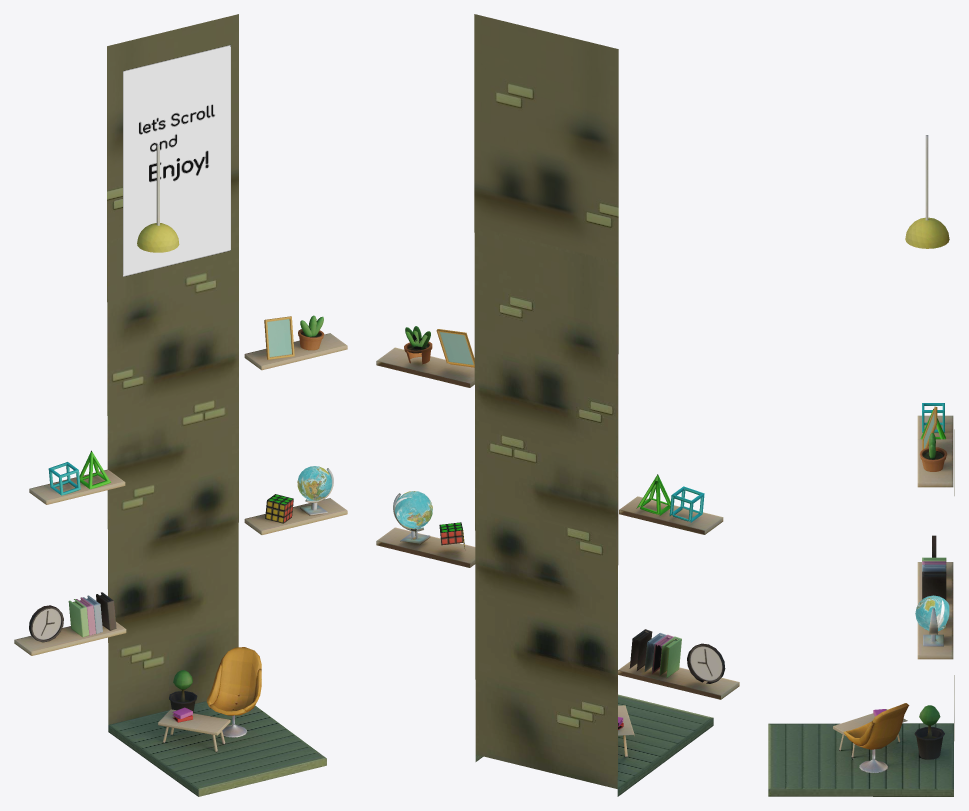
The picture shows the model from 3 angles, left to right: view 1: azimuth 30°, elevation 25°; view 2: azimuth 150°, elevation 25°; view 3: azimuth 270°, elevation 25°; orthographic projection. The views are drawn at different scales.
Parts seen in each view (by area): view 1: lantai.lowpoly.001, pembukaan.lowpoly, kursi.lowpoly, rak3.lowpoly, rak4.lowpoly, lampu.lowpoly, rak1.lowpoly, globe.005, rak2.lowpoly, meja.lowpoly, foto.lowpoly, jam.lowpoly (+5 smaller); view 2: lantai.lowpoly.001, rak1.lowpoly, rak3.lowpoly, rak4.lowpoly, rak2.lowpoly, globe.005, jam.lowpoly, foto.lowpoly, pot.lowpoly, buku1.lowpoly, kubus.lowpoly; view 3: lantai.lowpoly.001, kursi.lowpoly, lampu.lowpoly, globe.005, rak1.lowpoly, Pohon LP, rak3.lowpoly, buku4.lowpoly, pot.lowpoly, rak4.lowpoly, meja.lowpoly, rak2.lowpoly.
Boxes of the visible parts, left/top/right/bottom form: lantai.lowpoly.001: left=107, top=14, right=326, bottom=796; pembukaan.lowpoly: left=123, top=45, right=230, bottom=276; kursi.lowpoly: left=206, top=647, right=261, bottom=737; rak3.lowpoly: left=244, top=498, right=347, bottom=534; rak4.lowpoly: left=14, top=622, right=126, bottom=655; lampu.lowpoly: left=137, top=144, right=179, bottom=252; rak1.lowpoly: left=244, top=333, right=347, bottom=370; globe.005: left=297, top=466, right=333, bottom=515; rak2.lowpoly: left=29, top=469, right=125, bottom=504; meja.lowpoly: left=158, top=709, right=230, bottom=752; foto.lowpoly: left=264, top=316, right=294, bottom=359; jam.lowpoly: left=29, top=605, right=63, bottom=642; lantai.lowpoly.001: left=474, top=14, right=713, bottom=796; rak1.lowpoly: left=376, top=347, right=474, bottom=387; rak3.lowpoly: left=376, top=527, right=475, bottom=567; rak4.lowpoly: left=618, top=661, right=739, bottom=699; rak2.lowpoly: left=619, top=496, right=723, bottom=534; globe.005: left=393, top=491, right=432, bottom=544; jam.lowpoly: left=687, top=643, right=725, bottom=683; foto.lowpoly: left=436, top=329, right=474, bottom=367; pot.lowpoly: left=404, top=326, right=432, bottom=364; buku1.lowpoly: left=659, top=636, right=681, bottom=678; kubus.lowpoly: left=669, top=486, right=704, bottom=522; lantai.lowpoly.001: left=768, top=429, right=954, bottom=796; kursi.lowpoly: left=843, top=703, right=909, bottom=772; lampu.lowpoly: left=905, top=135, right=949, bottom=248; globe.005: left=915, top=595, right=949, bottom=646; rak1.lowpoly: left=917, top=439, right=953, bottom=487; Pohon LP: left=914, top=705, right=944, bottom=759; rak3.lowpoly: left=917, top=611, right=953, bottom=659; buku4.lowpoly: left=922, top=571, right=946, bottom=600; pot.lowpoly: left=919, top=433, right=947, bottom=471; rak4.lowpoly: left=917, top=562, right=953, bottom=611; meja.lowpoly: left=833, top=709, right=907, bottom=757; rak2.lowpoly: left=917, top=415, right=953, bottom=439.
Size of what is drawn, in the model's own units: 2.77 by 5.76 by 1.36.
8 materials, 8 textured.
